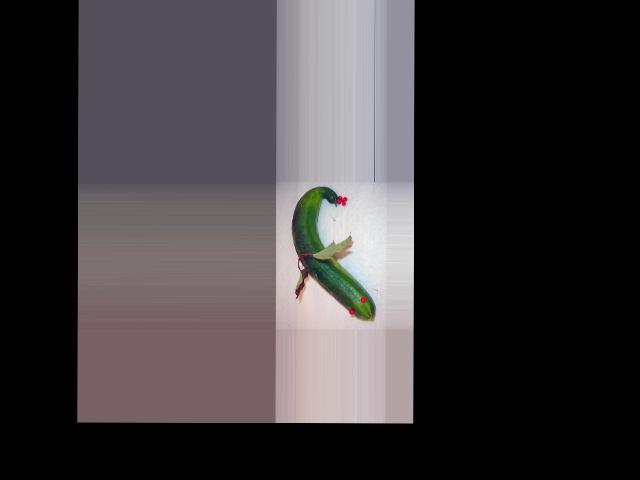cucumber: (291, 186, 376, 319)
